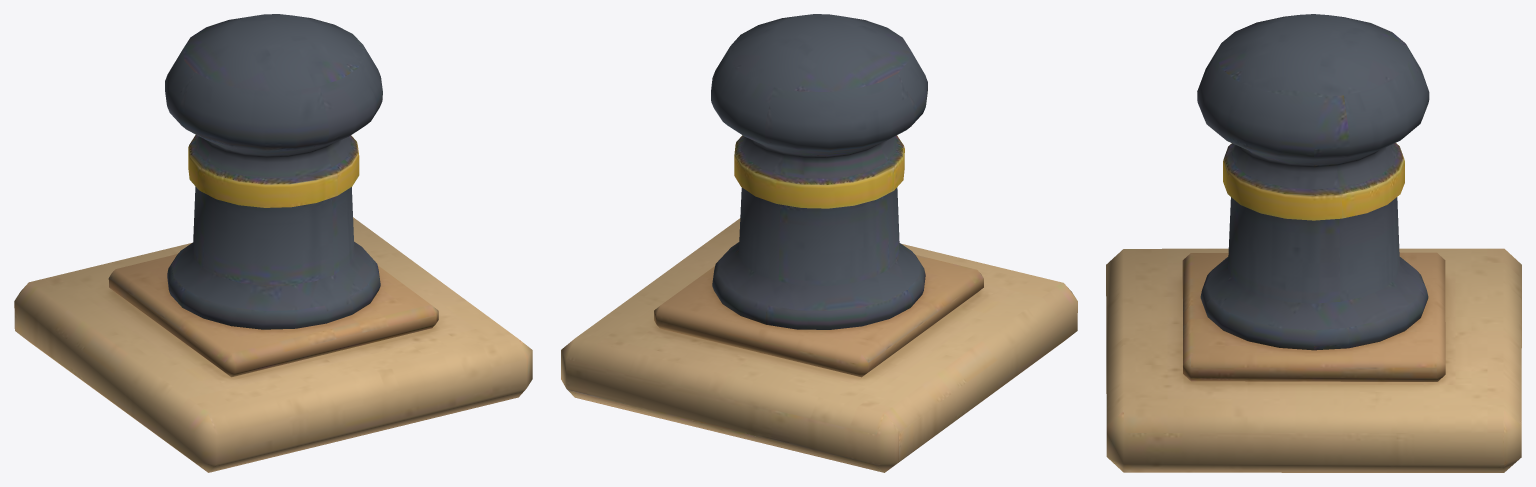
Rendered from mooring-post.glb.
3 renders of one model, left to right at view 1: azimuth 30°, elevation 25°; view 2: azimuth 150°, elevation 25°; view 3: azimuth 270°, elevation 25°, orthographic. The views are drawn at different scales.
Parts seen in each view (by area): view 1: mooring-post; view 2: mooring-post; view 3: mooring-post.
Boxes of the visible parts, x1=… form: mooring-post: x1=14, y1=14, x2=532, y2=472; mooring-post: x1=561, y1=14, x2=1077, y2=472; mooring-post: x1=1106, y1=14, x2=1521, y2=472.
Bounding box in the file's own units: 0.601 × 0.58 × 0.6015.
4 materials, 4 textured.
